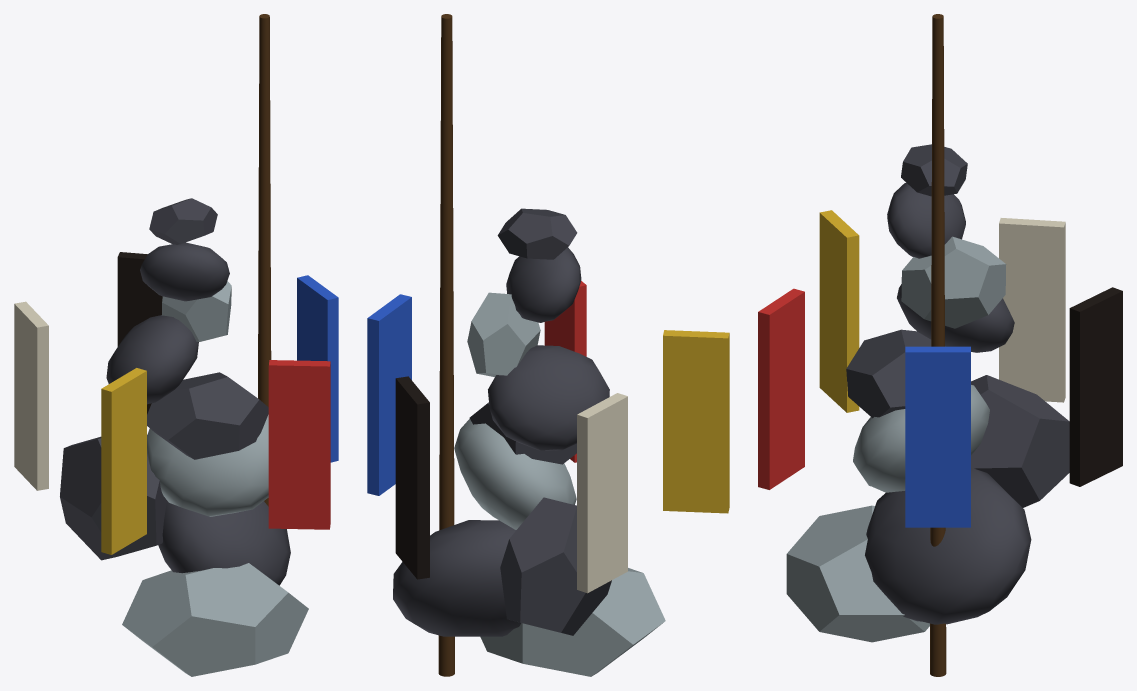
The model's file is mia-cairn.glb.
3 renders of one model, left to right at view 1: azimuth 30°, elevation 25°; view 2: azimuth 150°, elevation 25°; view 3: azimuth 270°, elevation 25°, orthographic. The views are drawn at different scales.
Visible parts, largest first — view 1: Body_stone, Body_steel, Body_flag-red, Body_flag-yellow, Body_mattress, Body_wood, Body_flag-blue, Body_black; view 2: Body_stone, Body_steel, Body_flag-yellow, Body_mattress, Body_wood, Body_flag-blue, Body_black, Body_flag-red; view 3: Body_stone, Body_steel, Body_flag-blue, Body_mattress, Body_black, Body_flag-red, Body_flag-yellow, Body_wood.
Boxes of the visible parts, box(x1,y1,x2,y2) form: Body_stone: box(60, 198, 290, 585); Body_steel: box(122, 281, 308, 676); Body_flag-red: box(268, 360, 330, 529); Body_flag-yellow: box(101, 368, 146, 554); Body_mattress: box(14, 301, 48, 490); Body_wood: box(258, 14, 271, 506); Body_flag-blue: box(297, 275, 338, 462); Body_black: box(117, 252, 162, 414); Body_stone: box(393, 208, 611, 636); Body_steel: box(454, 292, 665, 676); Body_flag-yellow: box(663, 330, 729, 513); Body_mattress: box(577, 393, 627, 593); Body_wood: box(438, 14, 454, 676); Body_flag-blue: box(367, 294, 411, 495); Body_black: box(395, 376, 429, 579); Body_flag-red: box(544, 281, 586, 462); Body_stone: box(846, 144, 1069, 624); Body_steel: box(786, 236, 1006, 642); Body_flag-blue: box(905, 346, 970, 527); Body_mattress: box(999, 218, 1065, 402); Body_black: box(1069, 287, 1122, 486); Body_flag-red: box(758, 288, 804, 489); Body_flag-yellow: box(819, 210, 859, 412); Body_wood: box(930, 14, 946, 676).
Size of the model in its own units: 1.02 by 2.2 by 1.11.
